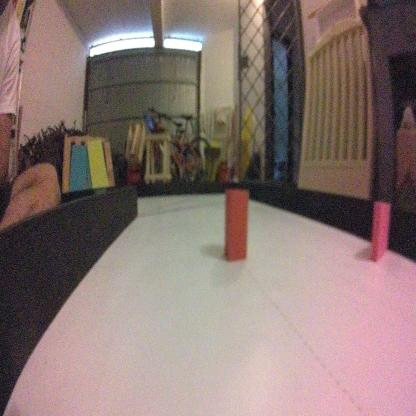magenta: (369, 200, 390, 265)
